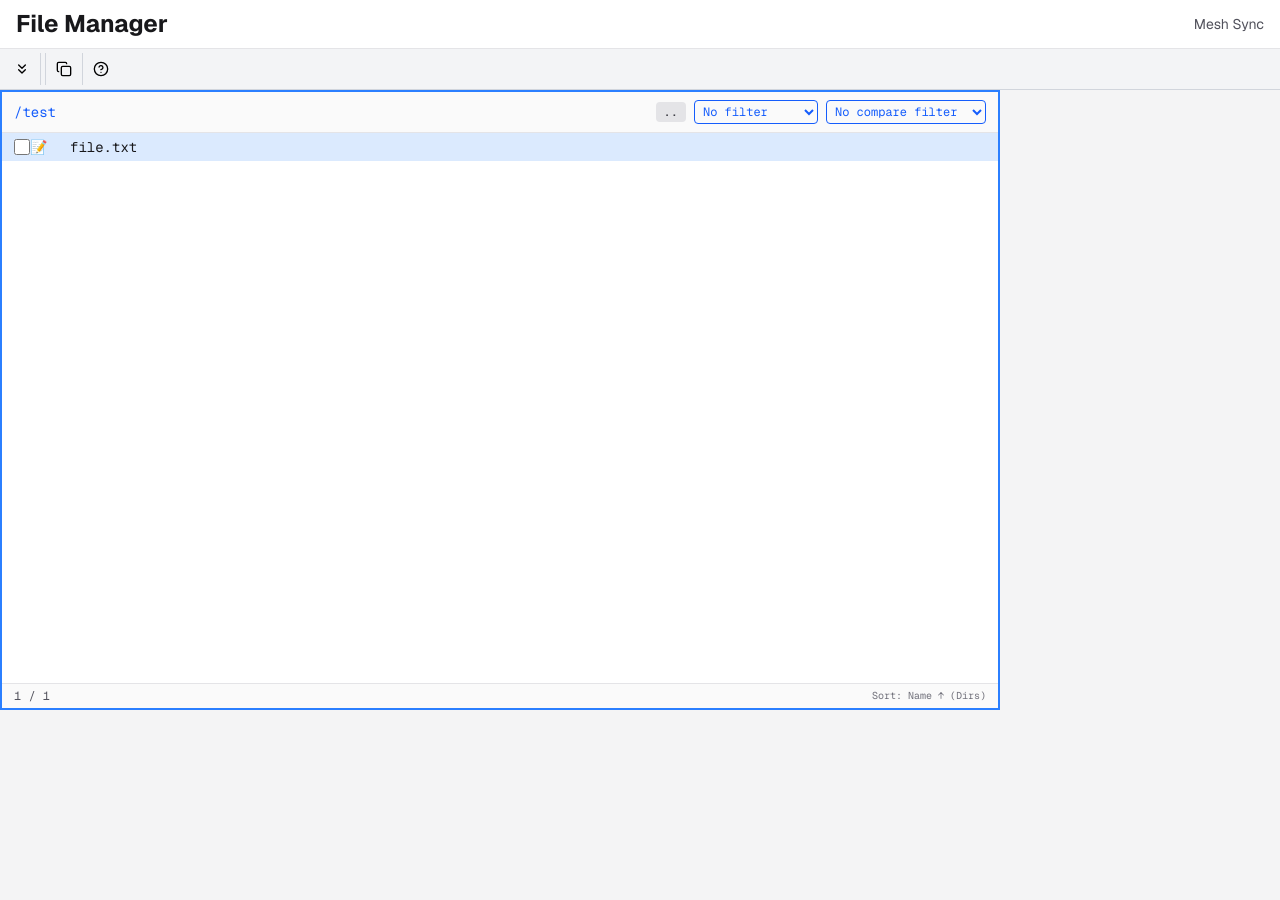
Test: [REQ-TOOLBAR_SYSTEM] IMPL-TOOLBAR_COMPONENT_WorkspaceToolbarDisplayMode › places toggle on pane toolbar when workspace tier is not top
Click the button with test id "toolbar-compact-toggle": (22, 69) [8,57,36,81]
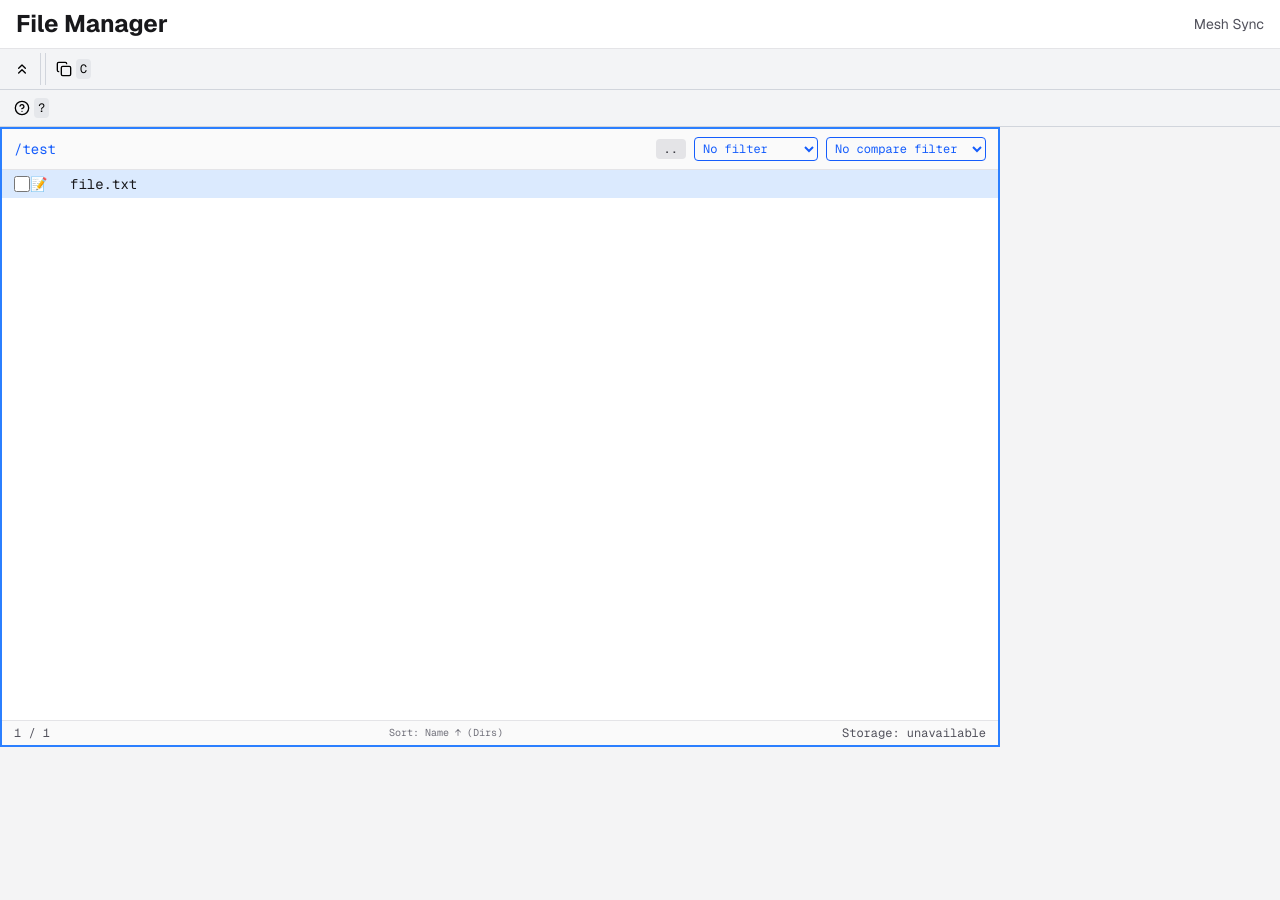
Expected: the element showing "C" is shown, [0,49,1279,90]
